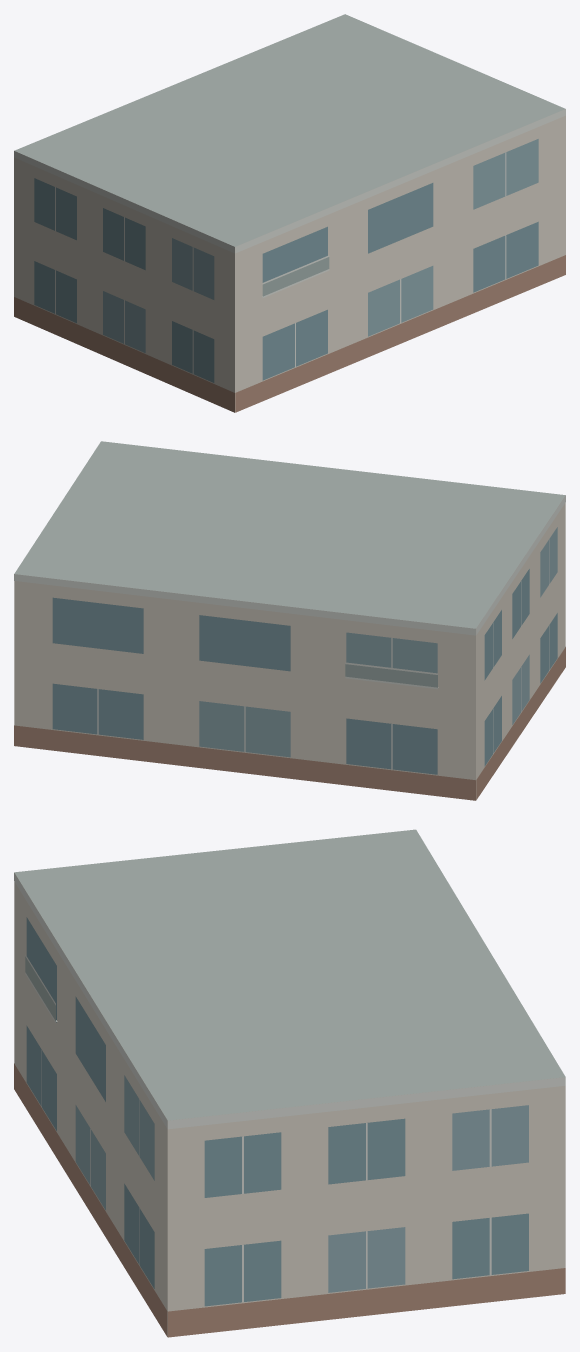
Rendered from survey-upis-32624082.glb.
3 renders of one model, top to bottom at view 1: azimuth 30°, elevation 25°; view 2: azimuth 150°, elevation 25°; view 3: azimuth 270°, elevation 25°, orthographic. The views are drawn at different scales.
Visible parts, largest first — view 1: survey-upis-32624082.tmp; view 2: survey-upis-32624082.tmp; view 3: survey-upis-32624082.tmp.
Boxes of the visible parts, x1,y1,x2,y2 form: survey-upis-32624082.tmp: [14, 14, 565, 412]; survey-upis-32624082.tmp: [14, 441, 565, 800]; survey-upis-32624082.tmp: [14, 829, 565, 1337].
Size of the model in its own units: 17.59 by 6.1 by 14.08.
